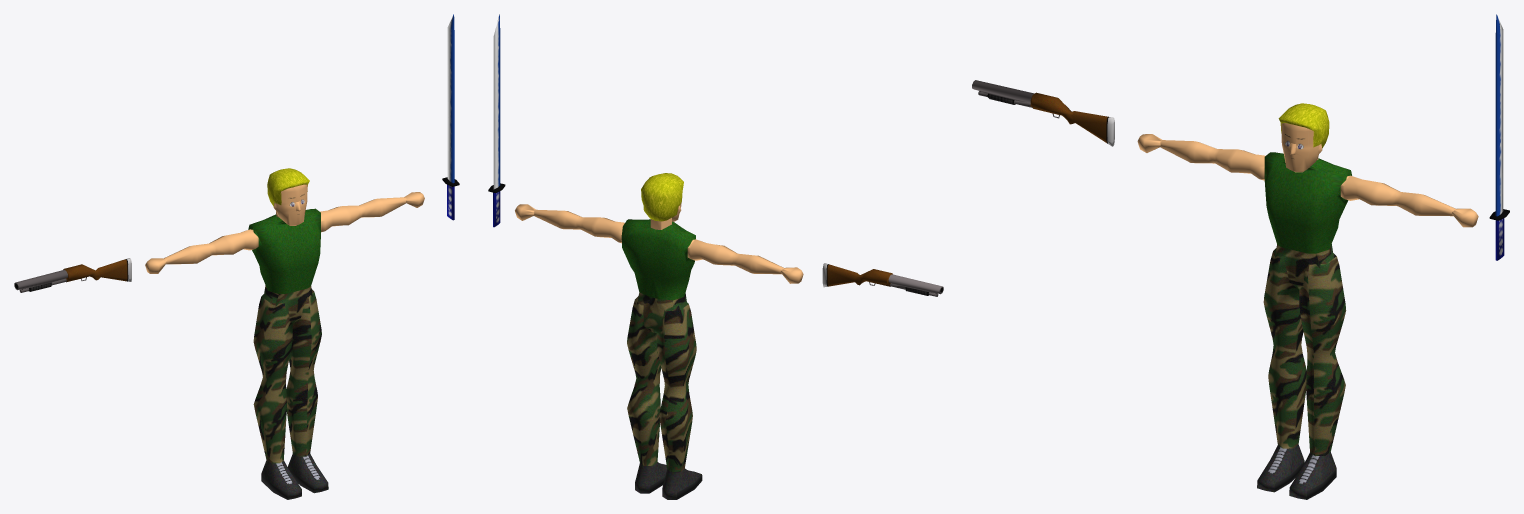
3 renders of one model, left to right at view 1: azimuth 30°, elevation 25°; view 2: azimuth 150°, elevation 25°; view 3: azimuth 330°, elevation 25°, orthographic. The views are drawn at different scales.
Parts seen in each view (by area): view 1: bodydown, bodyup, head, gun, sword; view 2: bodydown, bodyup, head, gun, sword; view 3: bodydown, bodyup, head, gun, sword.
Boxes of the visible parts, x1,y1,x2,y2 form: bodydown: (253,285,328,499); bodyup: (145,192,424,293); head: (267,168,309,225); gun: (14,258,131,292); sword: (442,14,459,220); bodydown: (627,292,702,499); bodyup: (515,204,803,300); head: (641,173,683,229); gun: (822,263,943,296); sword: (488,14,505,227); bodydown: (1257,244,1346,499); bodyup: (1137,134,1478,253); head: (1278,103,1329,172); gun: (972,80,1114,146); sword: (1489,14,1509,260).
Bounding box in the file's own units: 279 × 259 × 34.65.
Materials: 4 (4 with a texture image).
